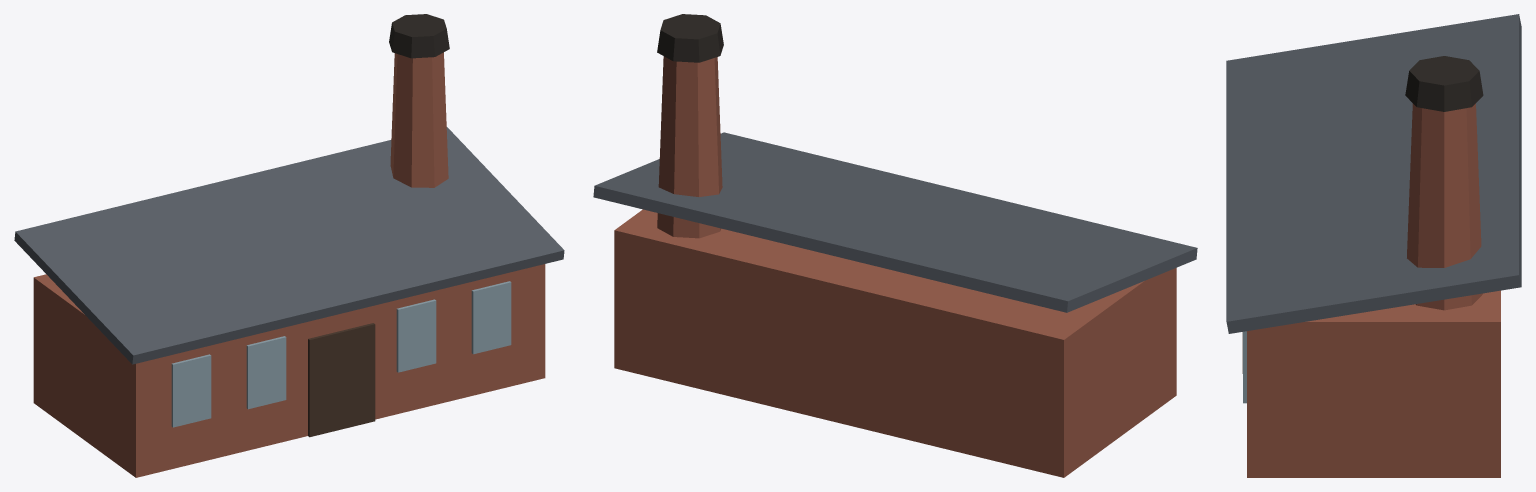
File: era2-factory-CAA6L2Bc.glb
3 views of the same model, side by side, from view 1: azimuth 30°, elevation 25°; view 2: azimuth 150°, elevation 25°; view 3: azimuth 270°, elevation 25° (orthographic). The views are drawn at different scales.
Parts seen in each view (by area): view 1: FactoryHall_Roof, FactoryHall_Hall, FactoryHall_Stack, FactoryHall_Door, FactoryHall_Window2, FactoryHall_Window4, FactoryHall_Window1, FactoryHall_Window3, FactoryHall_StackCap; view 2: FactoryHall_Hall, FactoryHall_Roof, FactoryHall_Stack, FactoryHall_StackCap; view 3: FactoryHall_Roof, FactoryHall_Hall, FactoryHall_Stack, FactoryHall_StackCap.
Part boxes in pixels (bbox=[...]): FactoryHall_Roof: bbox=[14, 127, 564, 364]; FactoryHall_Hall: bbox=[33, 264, 545, 477]; FactoryHall_Stack: bbox=[390, 52, 448, 187]; FactoryHall_Door: bbox=[308, 323, 375, 437]; FactoryHall_Window2: bbox=[246, 336, 286, 409]; FactoryHall_Window4: bbox=[471, 281, 511, 354]; FactoryHall_Window1: bbox=[171, 354, 211, 427]; FactoryHall_Window3: bbox=[396, 299, 436, 372]; FactoryHall_StackCap: bbox=[389, 14, 449, 58]; FactoryHall_Hall: bbox=[614, 209, 1176, 477]; FactoryHall_Roof: bbox=[593, 132, 1197, 312]; FactoryHall_Stack: bbox=[657, 56, 722, 238]; FactoryHall_StackCap: bbox=[657, 14, 723, 62]; FactoryHall_Roof: bbox=[1226, 14, 1521, 333]; FactoryHall_Hall: bbox=[1247, 290, 1500, 477]; FactoryHall_Stack: bbox=[1407, 103, 1483, 310]; FactoryHall_StackCap: bbox=[1405, 56, 1483, 111].
Size of the model in its own units: 15.8 by 10.7 by 7.55.
